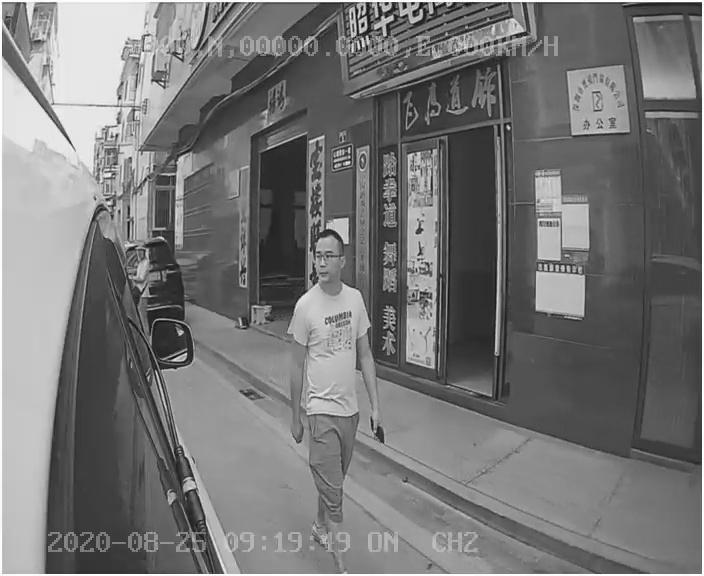person: (274, 229, 417, 532)
